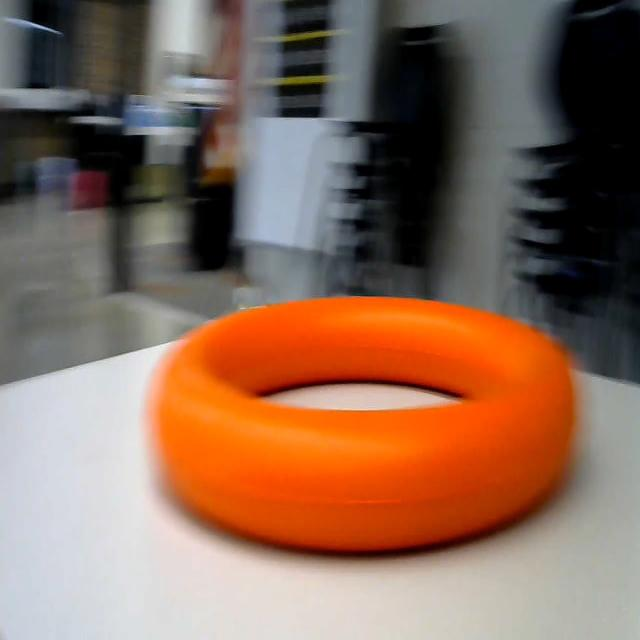note: (116, 279, 600, 562)
